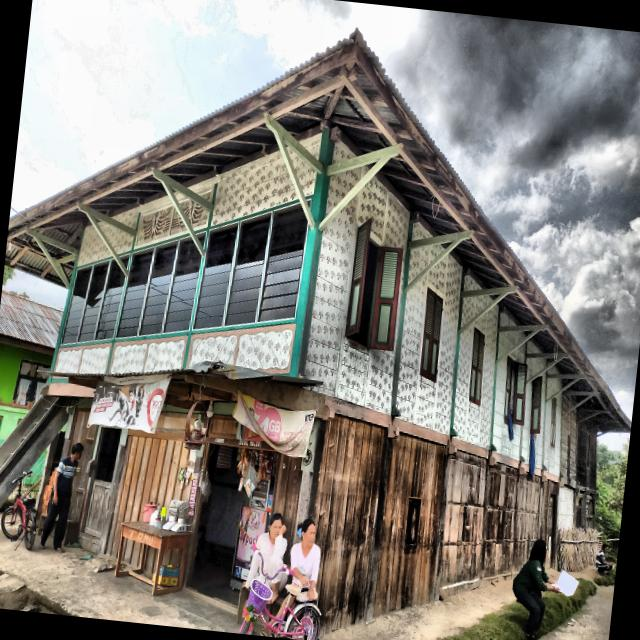door: (82, 427, 121, 538), (62, 407, 97, 523), (545, 495, 556, 567)
ornamen: (185, 323, 296, 374), (107, 334, 188, 373), (53, 342, 112, 373)
roof: (4, 30, 631, 430), (0, 289, 62, 348)
stair: (0, 394, 76, 507)
wall: (185, 150, 308, 373), (305, 178, 408, 414), (107, 194, 201, 373), (313, 414, 385, 635), (373, 436, 445, 616), (396, 255, 461, 434), (53, 225, 125, 374), (492, 331, 564, 476), (440, 449, 488, 595), (452, 306, 497, 449), (483, 462, 518, 587), (0, 342, 52, 402), (513, 471, 540, 578), (326, 168, 365, 211), (173, 191, 209, 231), (97, 221, 133, 254), (560, 407, 576, 481), (408, 246, 440, 281), (461, 295, 490, 326), (558, 484, 574, 531), (333, 142, 353, 162), (563, 394, 576, 415), (412, 222, 428, 239), (464, 275, 479, 291), (499, 312, 514, 326)
window: (345, 219, 402, 350), (258, 207, 307, 321), (225, 214, 271, 325), (194, 225, 237, 328), (163, 238, 201, 332), (139, 242, 177, 335), (117, 249, 153, 337), (95, 260, 125, 339), (78, 262, 108, 341), (62, 266, 92, 343), (420, 288, 442, 380), (503, 355, 527, 425), (469, 327, 484, 405), (469, 328, 484, 405), (530, 376, 542, 433), (550, 397, 556, 447)
